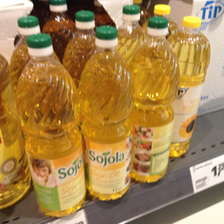oil: (15, 32, 87, 217), (81, 25, 134, 201), (130, 20, 178, 185)
